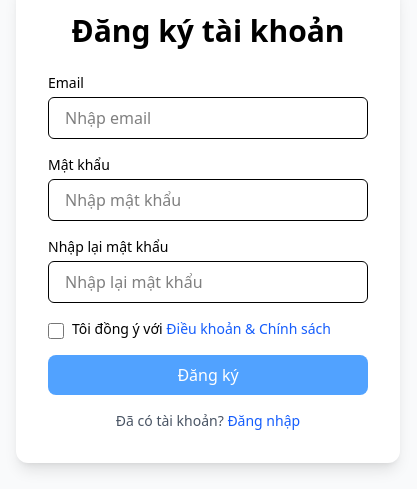
Test: bấm checkbox "Tôi đồng ý" sẽ bật nút gửi
The image size is (417, 489).
Expected: the button "Đăng ký" is disabled, [48,355,368,395]
Click the checkbox labelled "Tôi đồng ý với Điều khoản & Chính sách" at [56, 331], box [48,323,64,339]
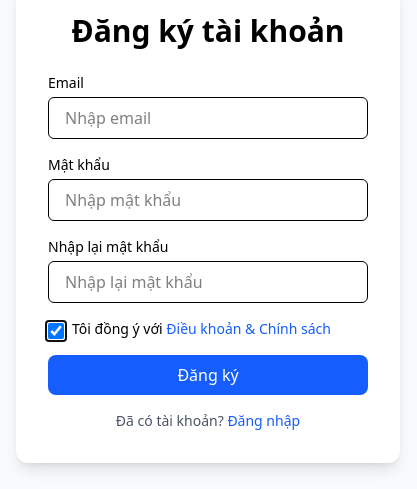
Result: the button "Đăng ký" is enabled at [48,355,368,395]
